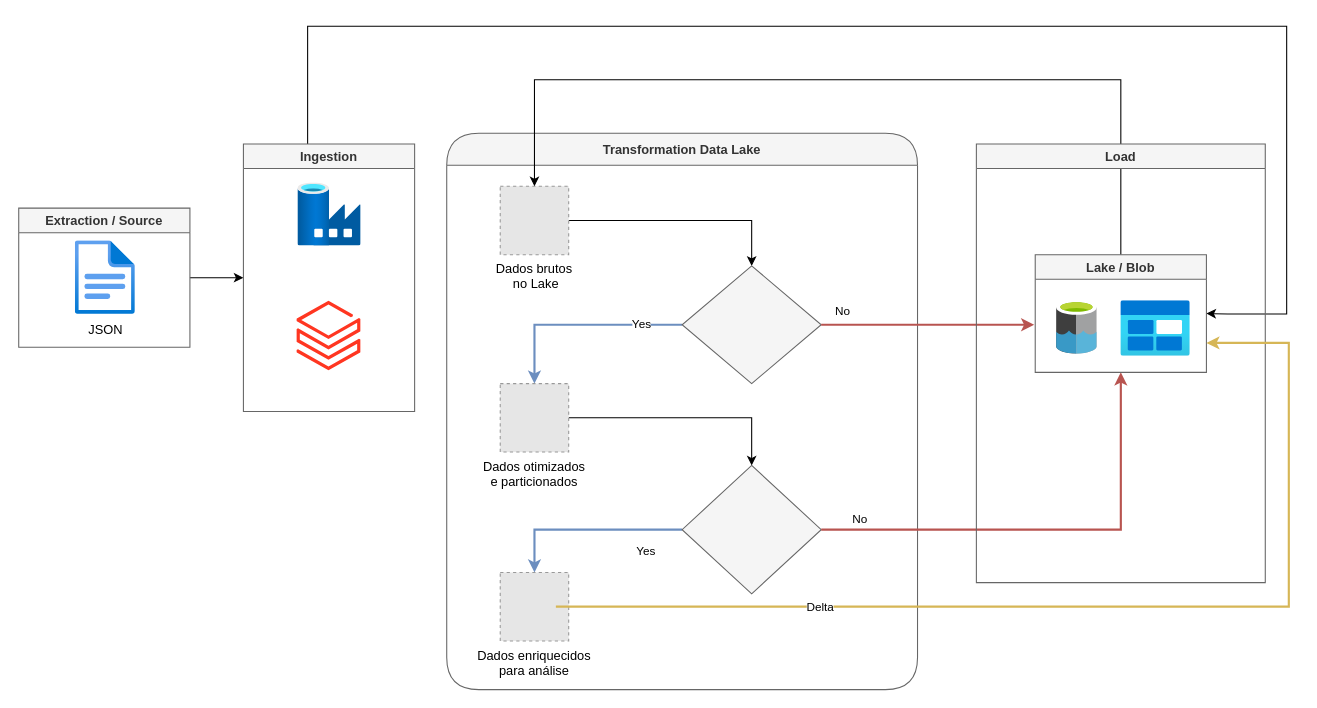
Some shapes in this 1317 by 708 pixel diagram are drawn without their labels. Grey dashed boxes stand in for pictures. The centre of each missing label's shape, as x and y in pixels:
"Data Factory" goes at pixel 329 214.
"Databricks" goes at pixel 328 335.
"Modelagem ?" goes at pixel 751 324.
"PK, Agrupamento ou Incremental" goes at pixel 751 529.
